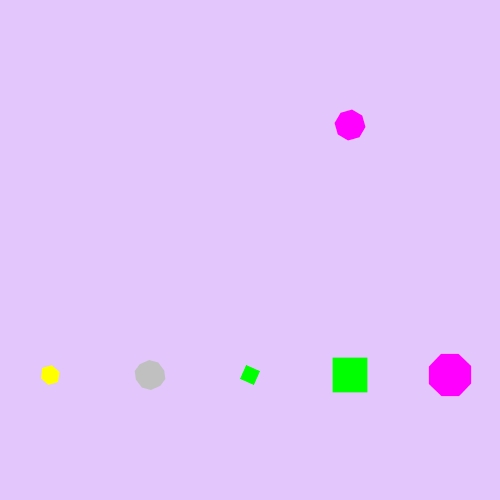decagon: (131, 357, 170, 393)
hexagon: (35, 362, 65, 388)
octagon: (424, 349, 477, 402), (331, 106, 370, 145)
quadrilateral: (323, 348, 378, 403), (235, 360, 265, 390)
